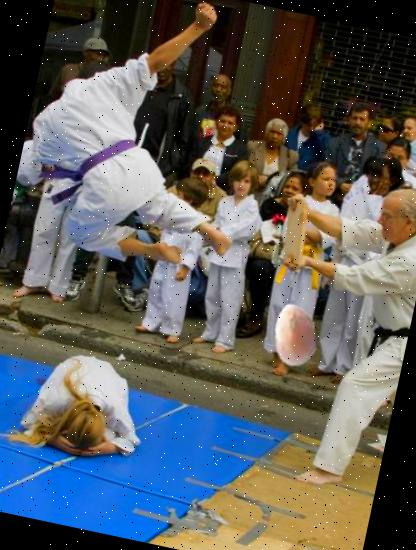Hazelnut: (257, 296, 334, 374)
